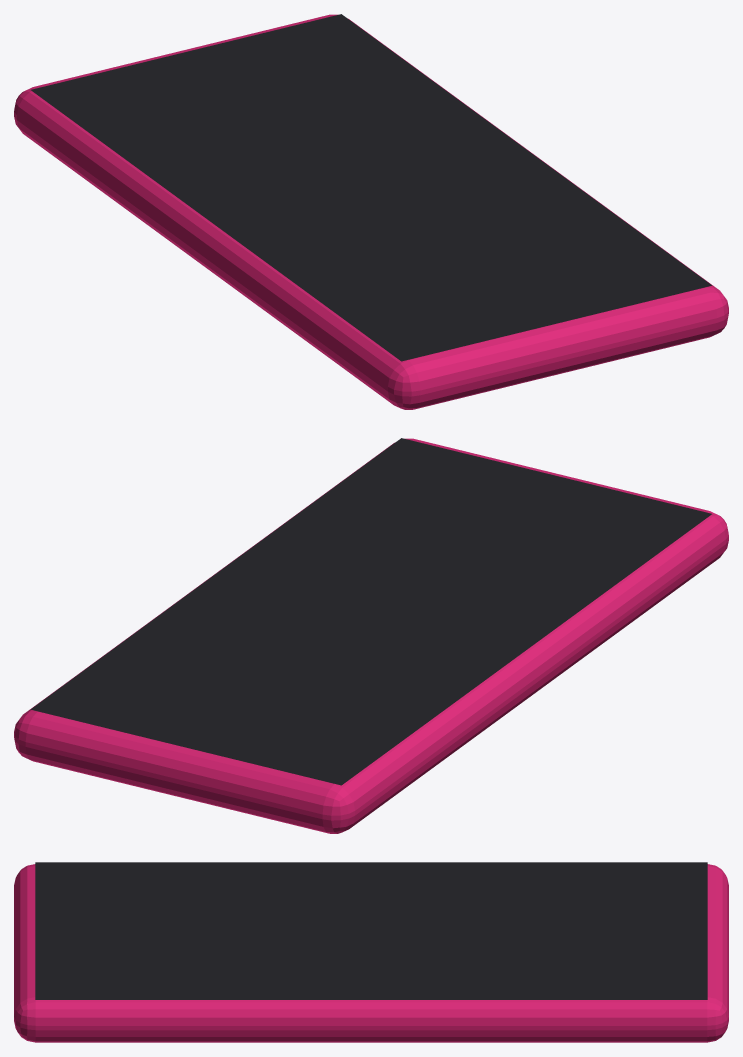
Rendered from oppo-find-x-model-311-mid-range-2022.glb.
The picture shows the model from 3 angles, top to bottom: view 1: azimuth 30°, elevation 25°; view 2: azimuth 150°, elevation 25°; view 3: azimuth 270°, elevation 25°; orthographic projection. The views are drawn at different scales.
Visible parts, largest first — view 1: Phone_Screen, Phone_Body; view 2: Phone_Screen, Phone_Body; view 3: Phone_Screen, Phone_Body.
Boxes of the visible parts, x1=… form: Phone_Screen: x1=31, y1=14, x2=711, y2=361; Phone_Body: x1=14, y1=14, x2=728, y2=409; Phone_Screen: x1=31, y1=438, x2=711, y2=785; Phone_Body: x1=14, y1=438, x2=728, y2=833; Phone_Screen: x1=35, y1=862, x2=707, y2=999; Phone_Body: x1=14, y1=864, x2=728, y2=1042.
Bounding box in the file's own units: 0.0731 × 0.01 × 0.1478.
